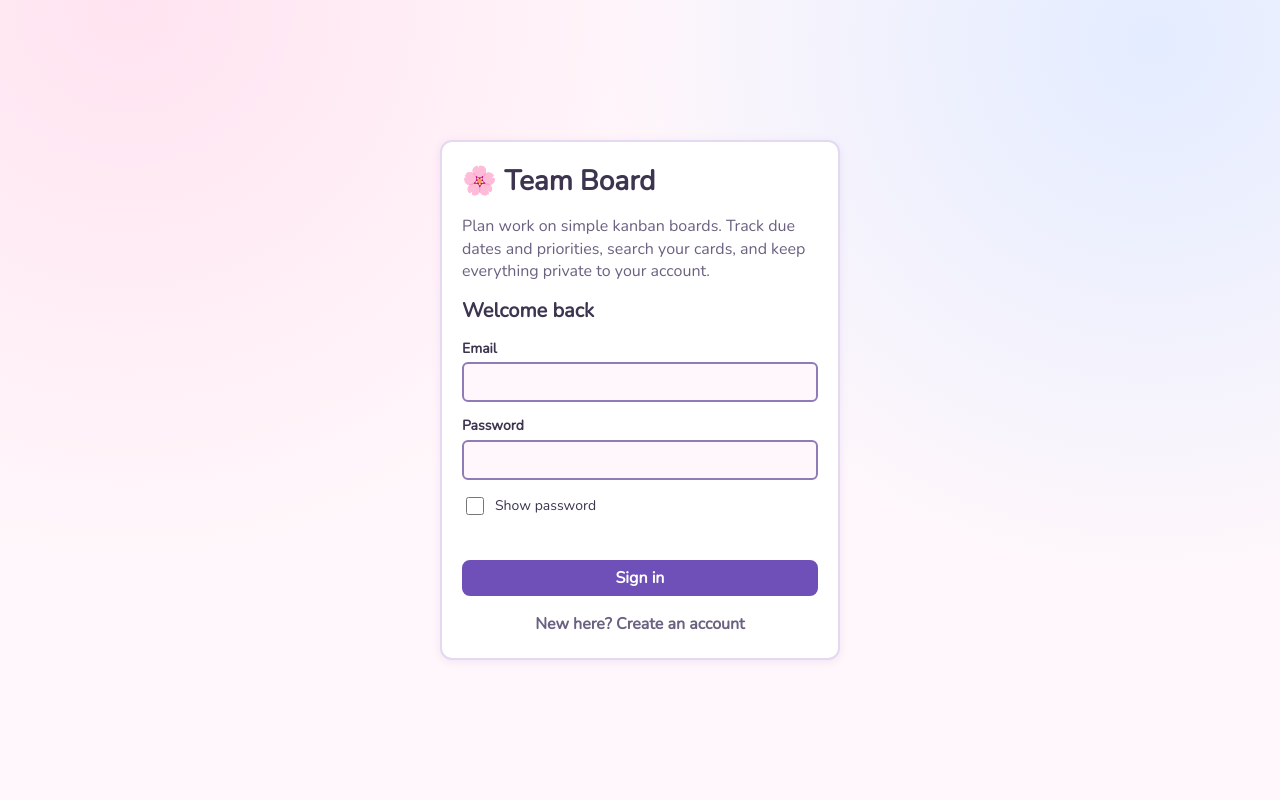
Test: AuthScreen › tells you when the server cannot be reached
Type "me@example.com" into the field labelled "Email". click: coordinates (640, 382)
box: x1=462 y1=362 x2=818 y2=402
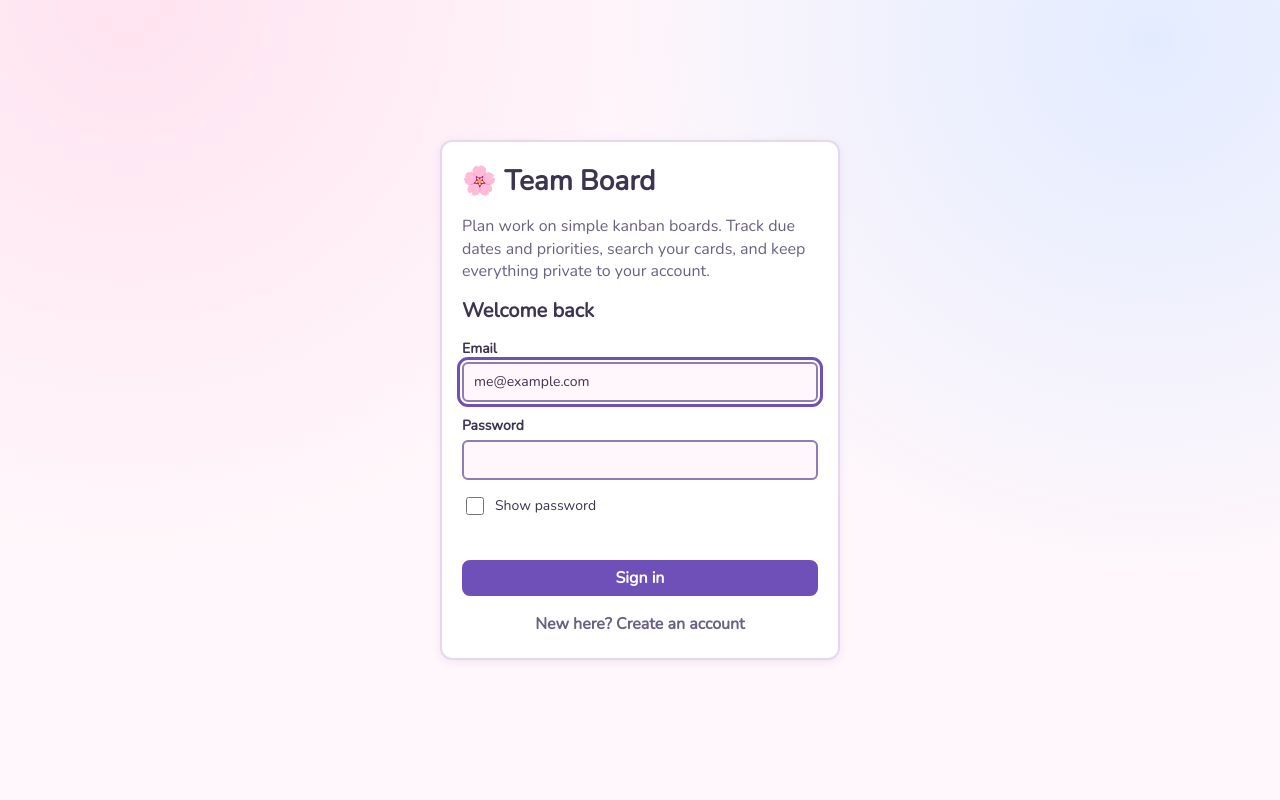
Type "whatever-123" into the password field labelled "Password". click: coordinates (640, 460)
box: x1=462 y1=440 x2=818 y2=480
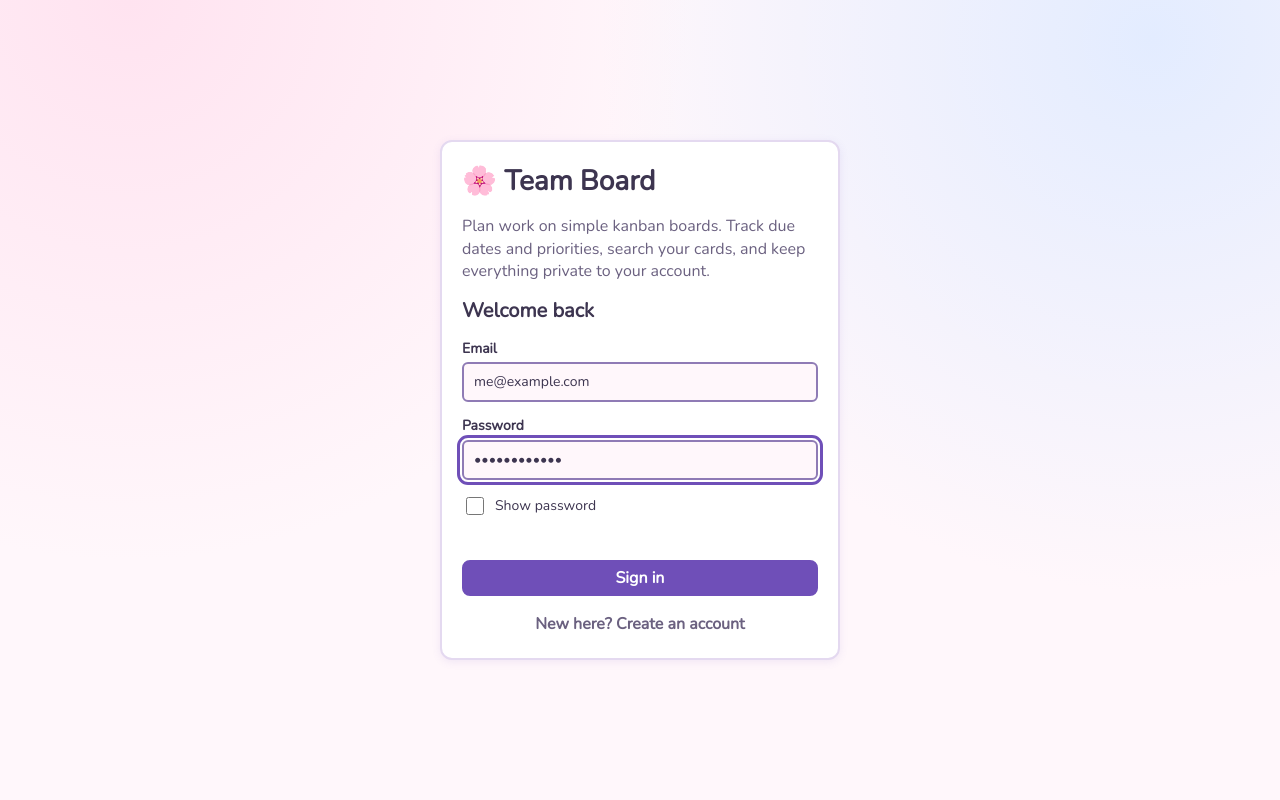
Click the button "Sign in". click: coordinates (640, 578)
box: x1=462 y1=560 x2=818 y2=596
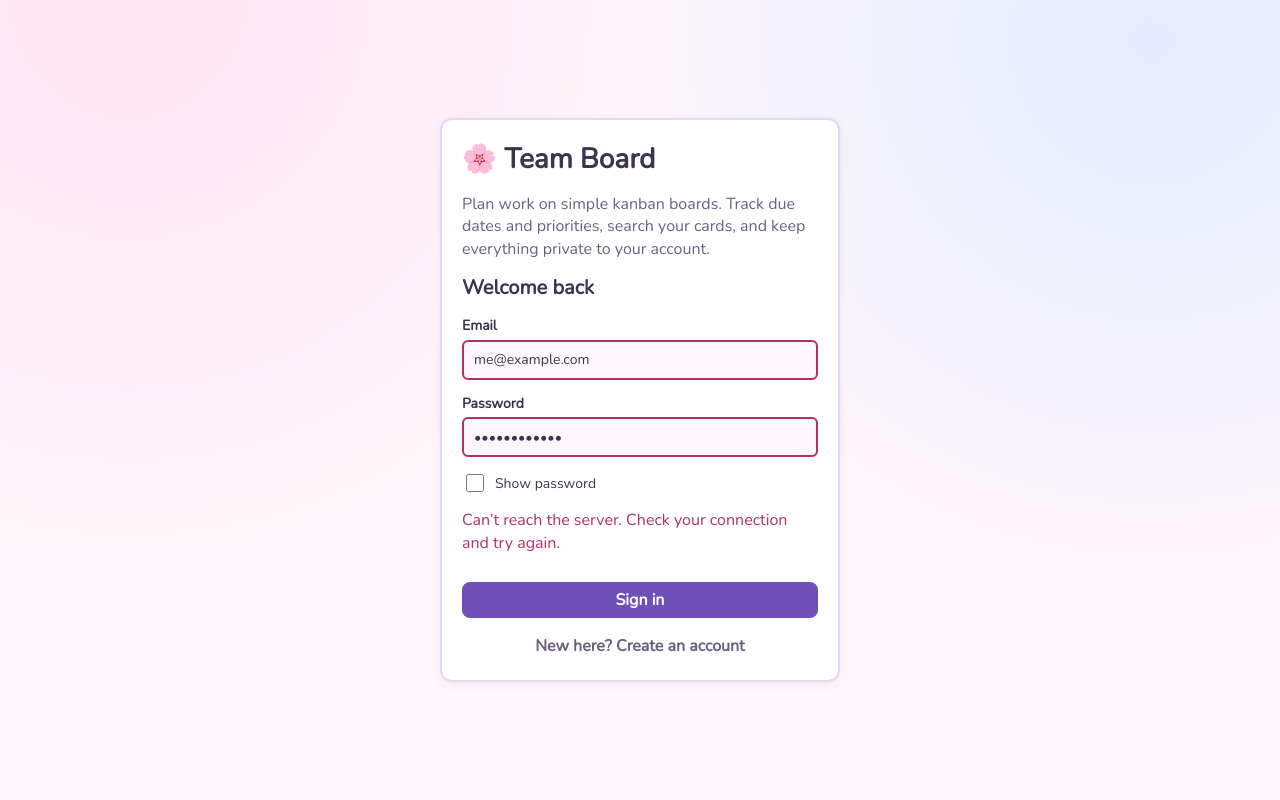
Result: the message shows "Can’t reach the server." at x1=462 y1=509 x2=788 y2=554
